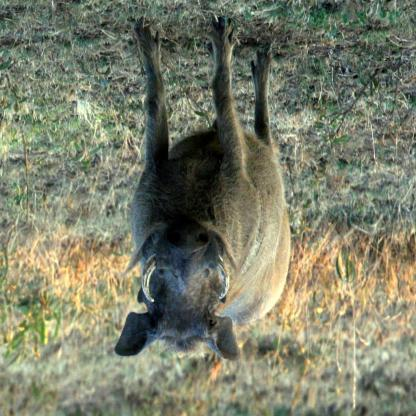boar: (114, 15, 290, 363)
